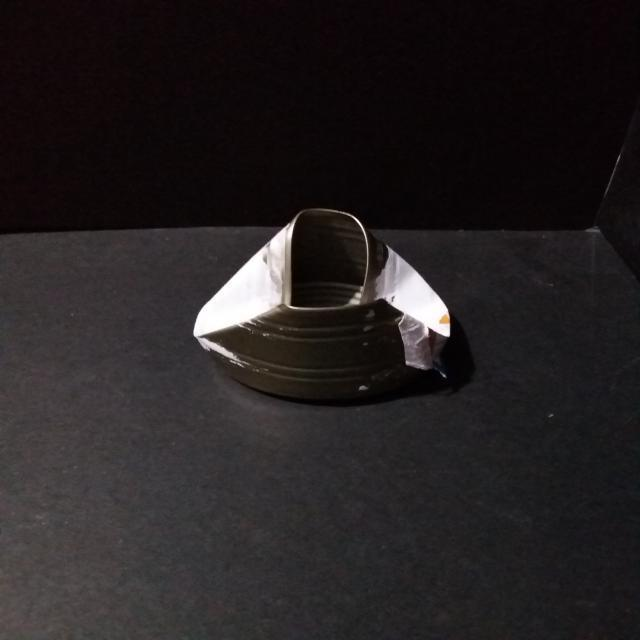metal: (190, 202, 458, 402)
